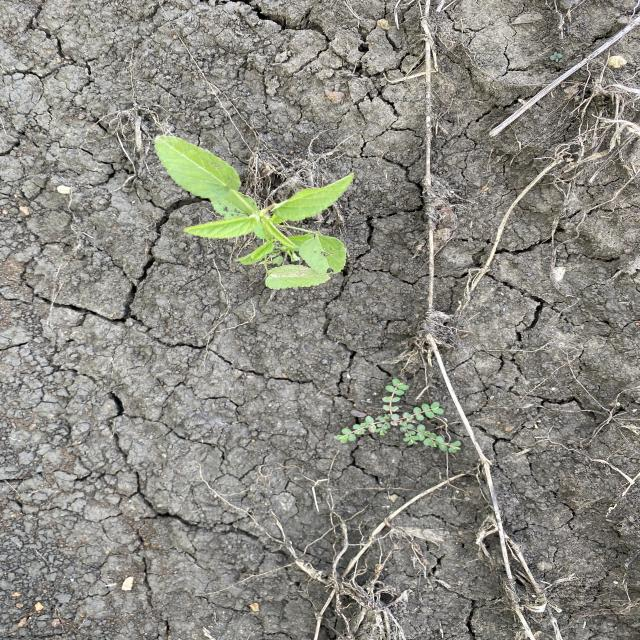PricklySida: (152, 131, 358, 292)
SpottedSpurge: (335, 374, 464, 457)
